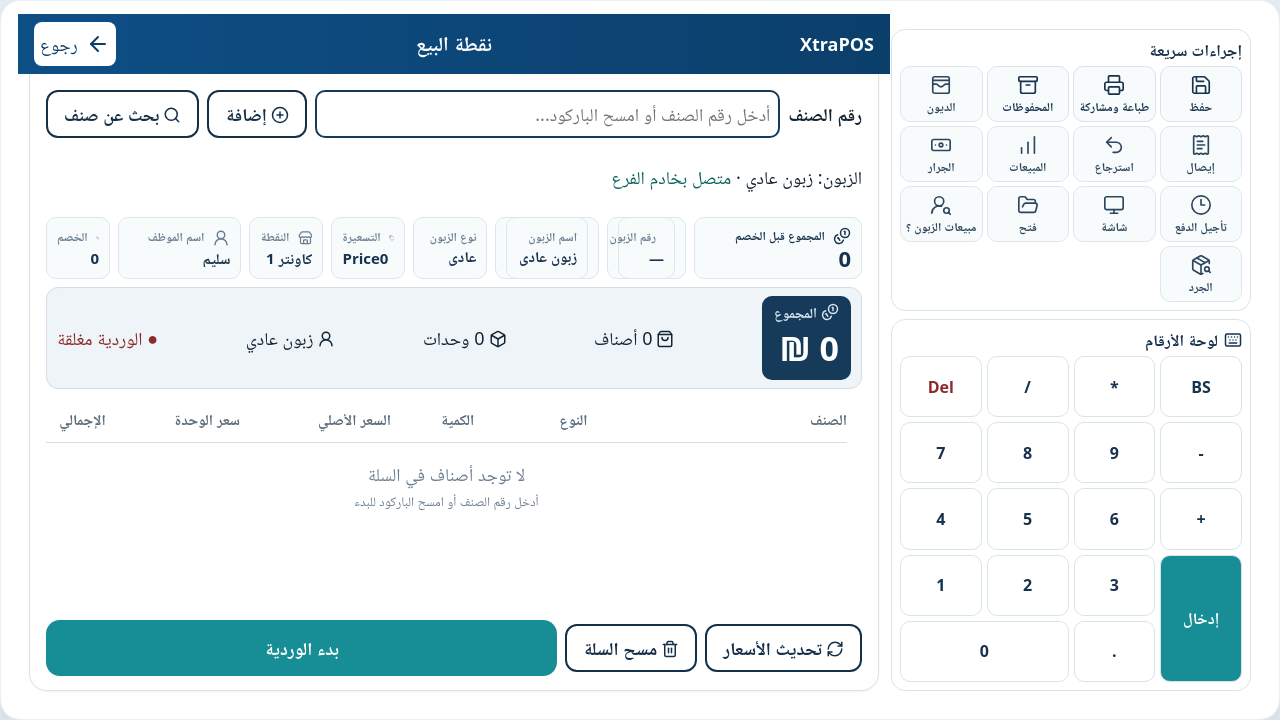
it: POS cashier screen › opens and closes the branch cash session without checking out or storing it locally
The width and height of the screenshot is (1280, 720).
Expected: the text "● الوردية مغلقة" is shown, [57,324,158,352]
Expected: the number of fields is 1, [315,90,780,138]
Click the button "بدء الوردية" at (302, 648), box [46,620,558,676]
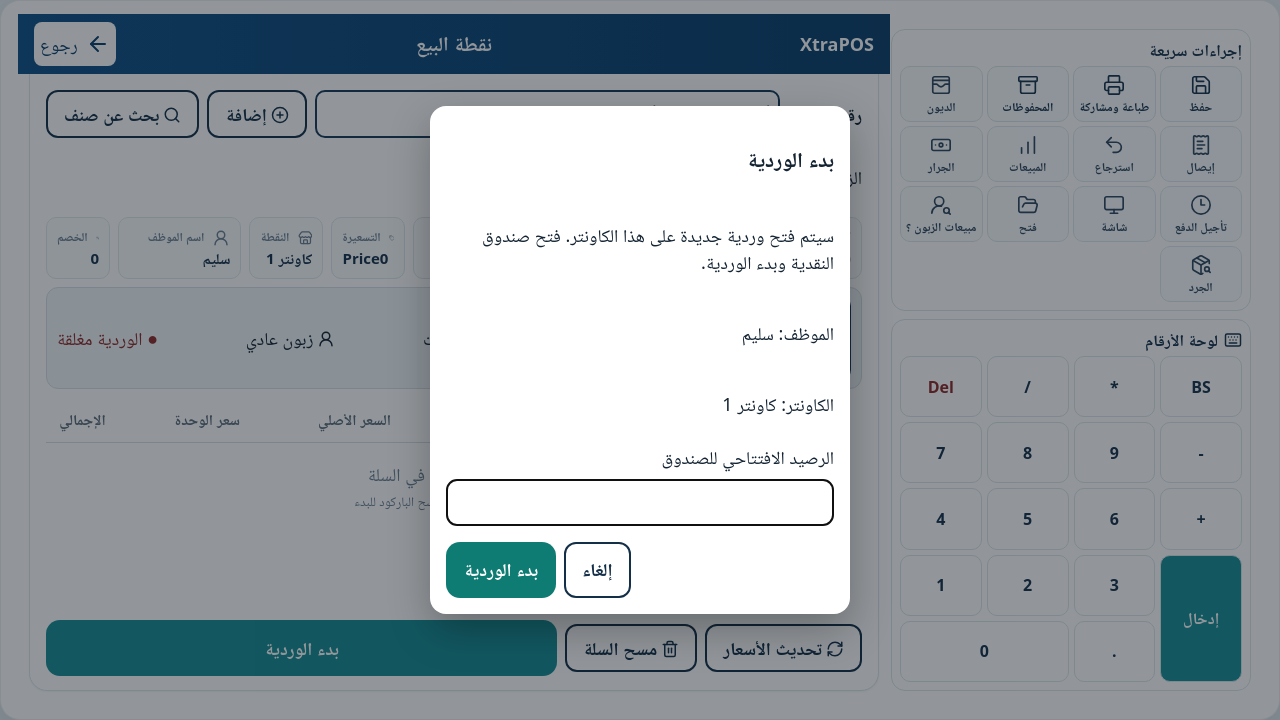
Type "25" into the field labelled "الرصيد الافتتاحي للصندوق" at (640, 502), box [446,479,834,526]
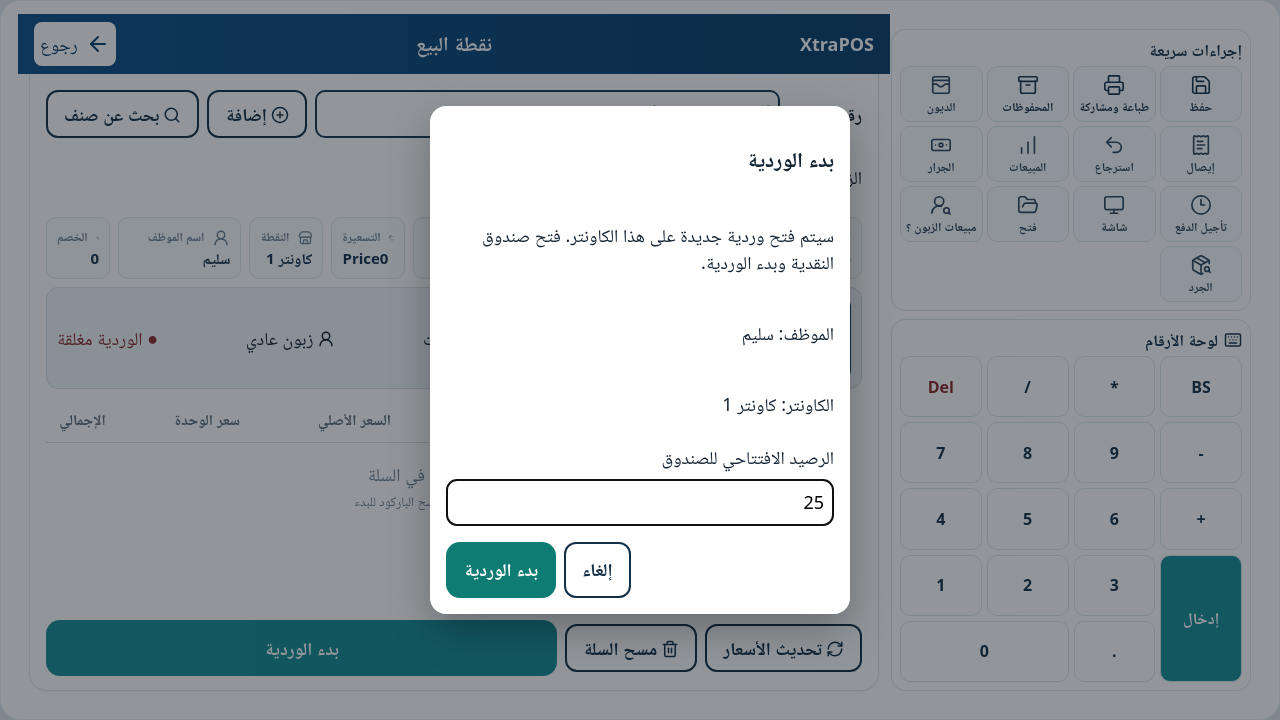
Click the button "بدء الوردية" at (501, 570), box [446,542,556,598]
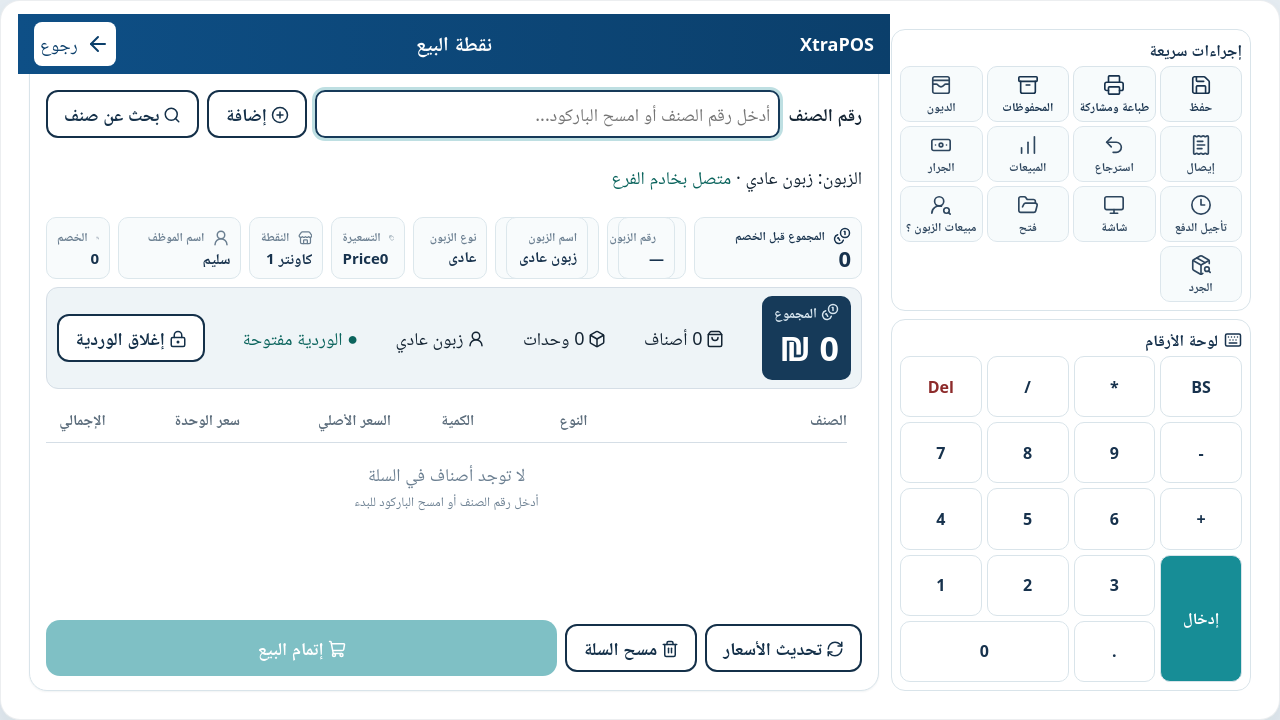
Now the text "● الوردية مفتوحة" is shown, box [242,324,358,352]
Now the button "بدء الوردية" is gone
Now the button "إتمام البيع" is shown, box [46,620,558,676]
Click the button "إغلاق الوردية" at (131, 338), box [57,314,205,362]
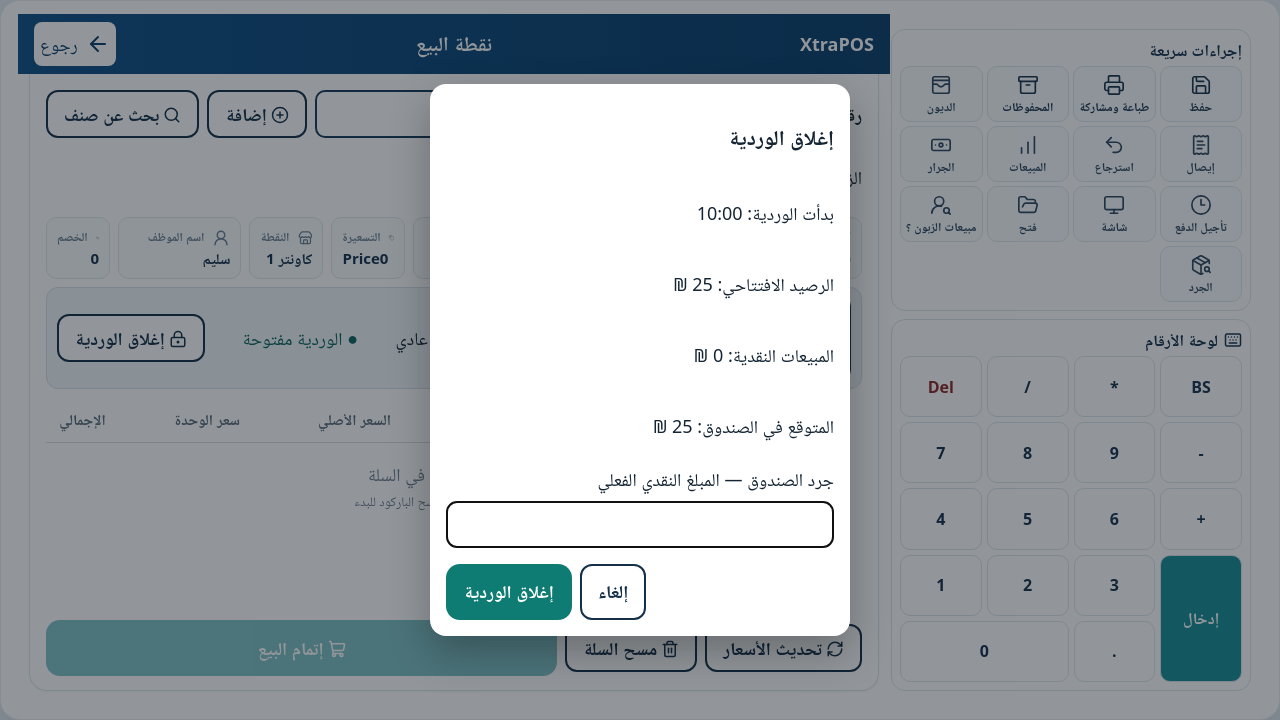
Now the text "المتوقع في الصندوق: 25 ₪" is shown, box [653,414,834,438]
Type "20" into the field labelled "جرد الصندوق — المبلغ النقدي الفعلي" at (640, 524), box [446,501,834,548]
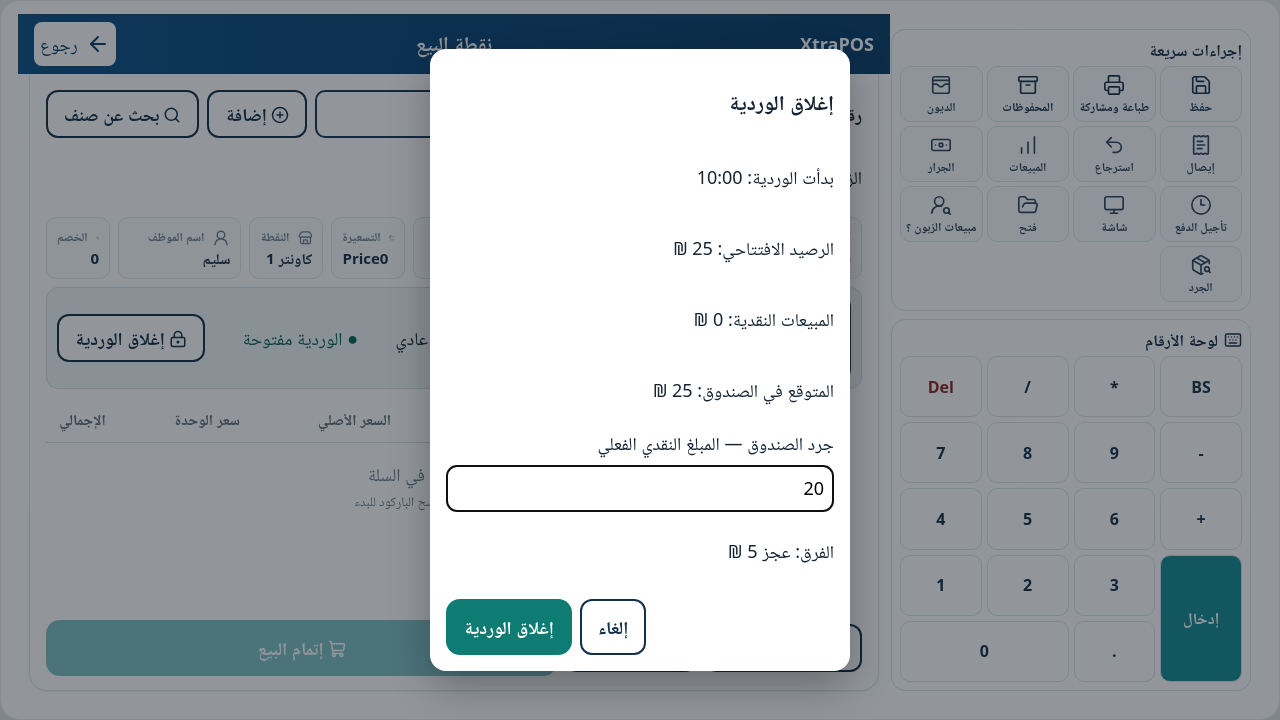
Now the text "الفرق: عجز 5 ₪" is shown, box [728,539,834,563]
Click the button "إغلاق الوردية" at (509, 627), box [446,599,572,655]
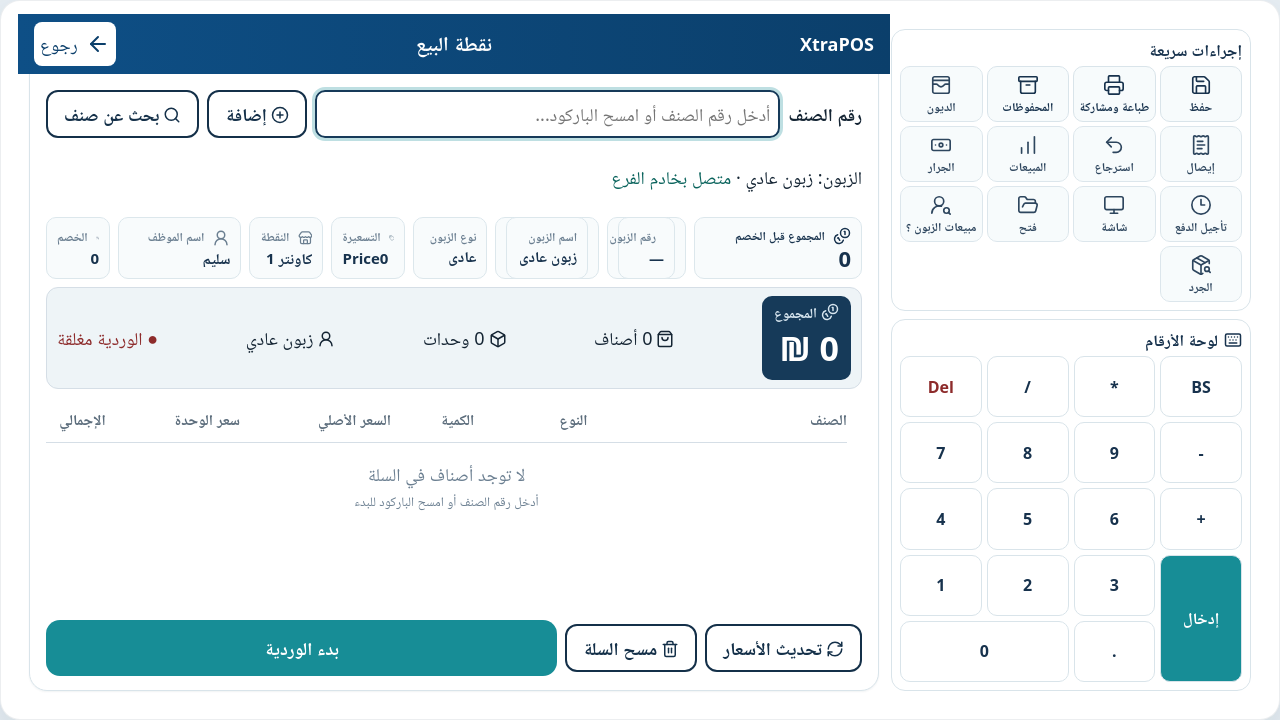
Now the button "بدء الوردية" is shown, box [46,620,558,676]
Now the button "إتمام البيع" is gone
